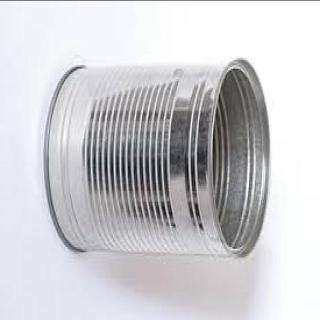Anorganik: (44, 46, 274, 274)
